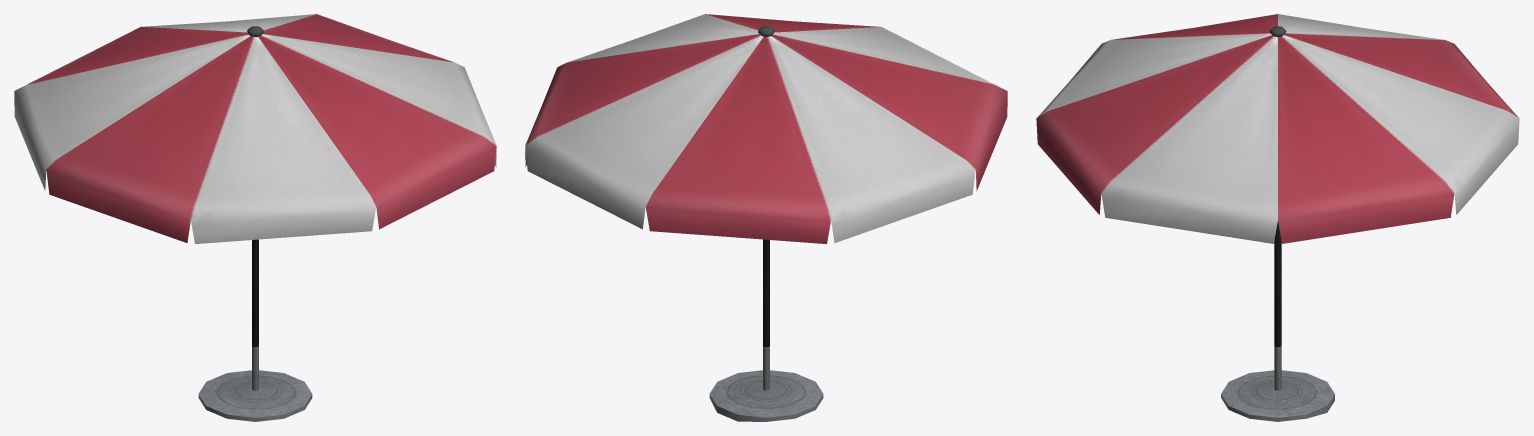
Rendered from Umbrella_03.FBX.
The picture shows the model from 3 angles, left to right: view 1: azimuth 30°, elevation 25°; view 2: azimuth 150°, elevation 25°; view 3: azimuth 270°, elevation 25°; orthographic projection.
Visible parts, largest first — view 1: Umbrella_03; view 2: Umbrella_03; view 3: Umbrella_03.
Boxes of the visible parts, x1,y1,x2,y2 form: Umbrella_03: [14, 14, 496, 421]; Umbrella_03: [525, 14, 1007, 421]; Umbrella_03: [1036, 14, 1519, 421].
Size of the model in its own units: 3.56 by 3.03 by 3.56.
